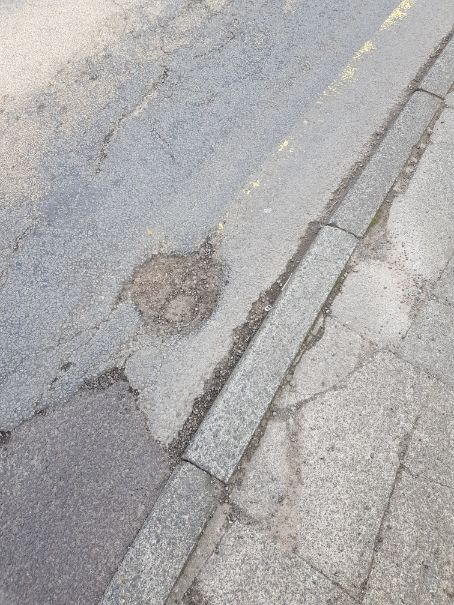pothole: (112, 230, 235, 338)
